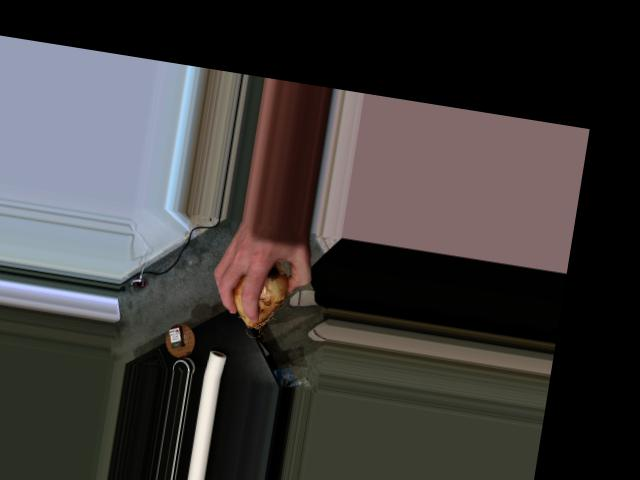onion: (230, 263, 291, 331)
